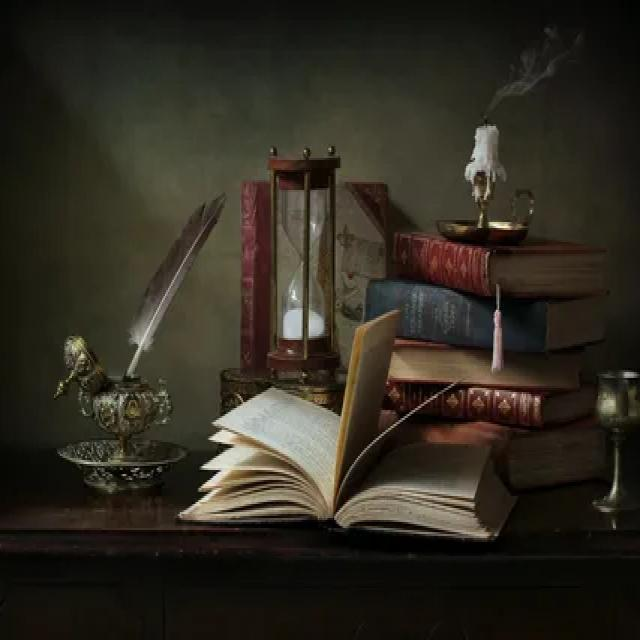clock: (263, 131, 345, 375)
